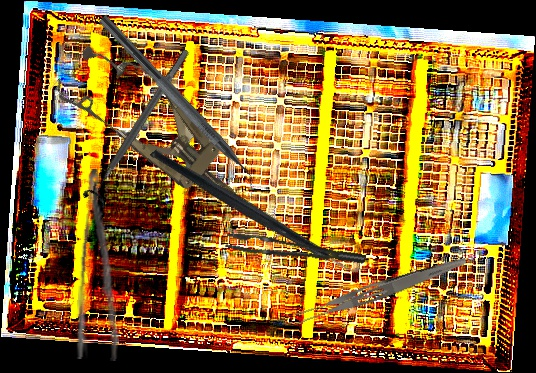Chopper: (148, 90, 373, 332), (87, 13, 269, 202)
Dressing Forceps: (291, 249, 468, 330), (73, 168, 131, 362)
Fixation Ring: (80, 43, 199, 210)
Speculum: (47, 28, 265, 233)
Tissue Forceps: (223, 219, 367, 283)
